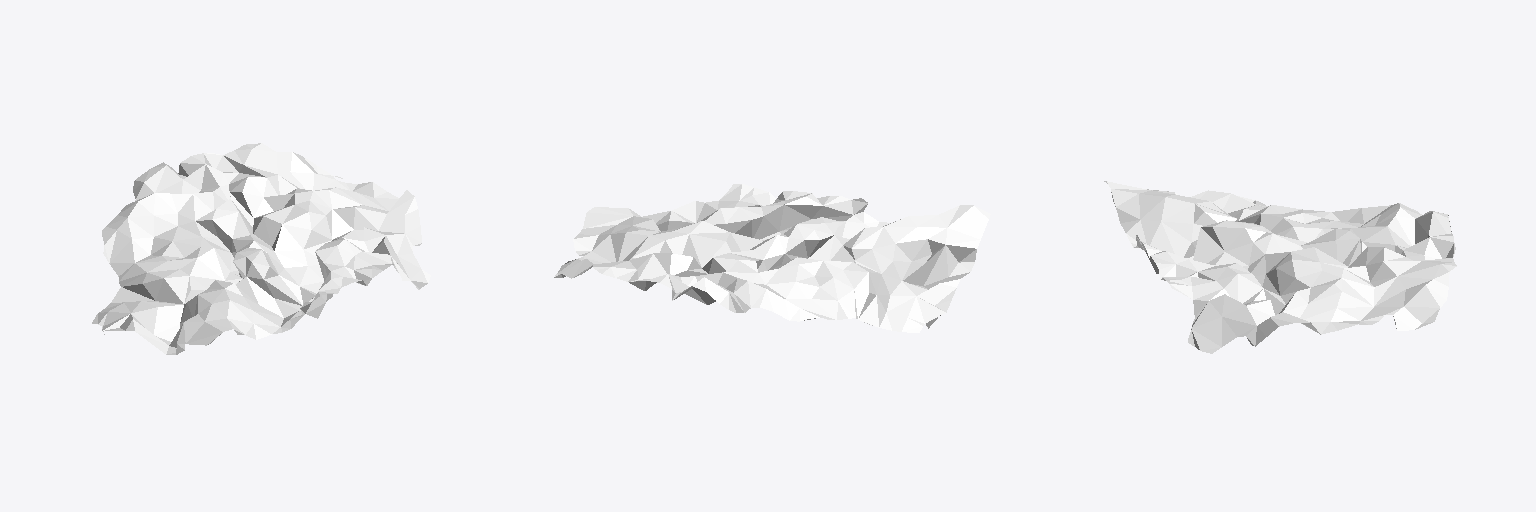
The model's file is RockGR.obj.
The picture shows the model from 3 angles: view 1: azimuth 30°, elevation 25°; view 2: azimuth 150°, elevation 25°; view 3: azimuth 270°, elevation 25°; orthographic projection.
Visible parts, largest first — view 1: Rock; view 2: Rock; view 3: Rock.
Part boxes in pixels (x1,y1,x2,y2): Rock: (92, 143, 430, 354); Rock: (554, 184, 990, 332); Rock: (1104, 181, 1456, 353).
Size of the model in its own units: 4.54 by 0.9933 by 4.19.